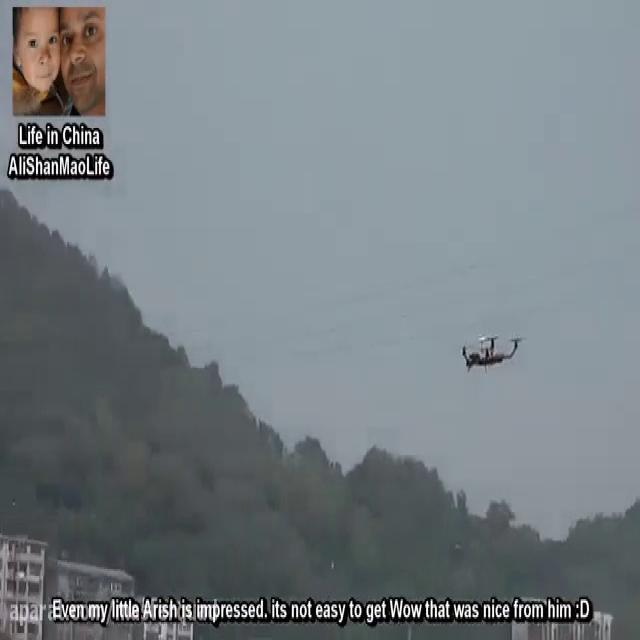drone: (457, 325, 527, 379)
